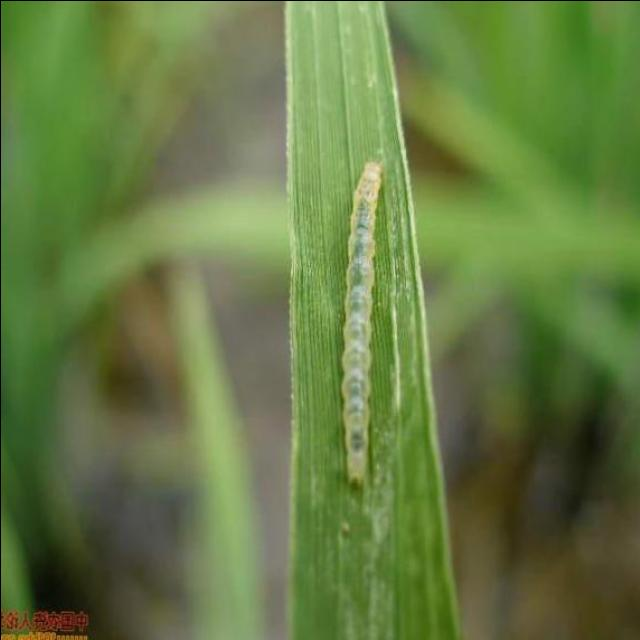leaf folder: (342, 161, 382, 482)
